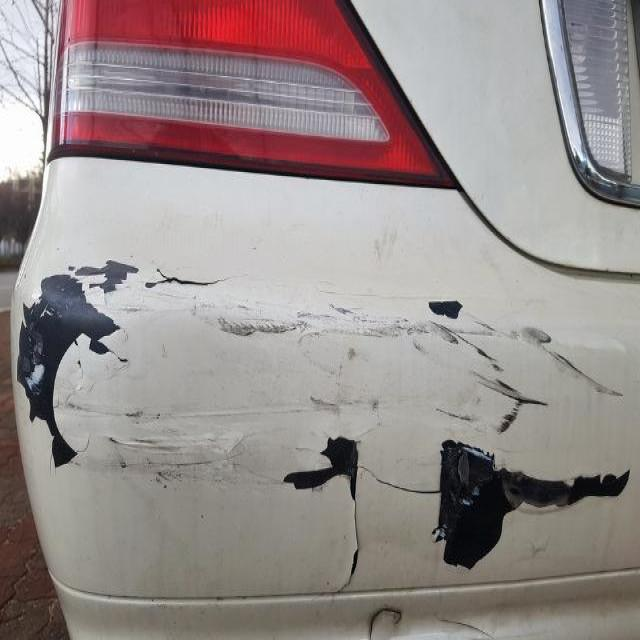Dent: (166, 277, 617, 436), (368, 570, 640, 638), (68, 395, 348, 429), (50, 578, 358, 606), (222, 426, 347, 486), (300, 334, 388, 414), (296, 300, 440, 340), (538, 340, 621, 396), (428, 320, 507, 372), (105, 427, 241, 453), (503, 468, 574, 509), (570, 4, 627, 48), (146, 458, 229, 486), (334, 508, 360, 596), (363, 469, 444, 495), (142, 266, 239, 286), (37, 271, 84, 305), (437, 611, 498, 636), (369, 224, 400, 264), (460, 444, 492, 475), (494, 400, 522, 432), (217, 316, 261, 336), (90, 339, 127, 361), (578, 264, 637, 277), (24, 358, 45, 393), (428, 298, 460, 318), (12, 262, 28, 298), (520, 325, 550, 344), (109, 438, 129, 466), (524, 536, 548, 559), (44, 598, 60, 626), (0, 528, 19, 549), (73, 265, 102, 276), (329, 302, 355, 314), (30, 335, 42, 360), (600, 472, 616, 488), (40, 304, 54, 317), (346, 344, 356, 360), (161, 343, 166, 357), (72, 335, 79, 345), (66, 35, 70, 44), (198, 512, 203, 519), (569, 22, 577, 26), (628, 272, 633, 277)
